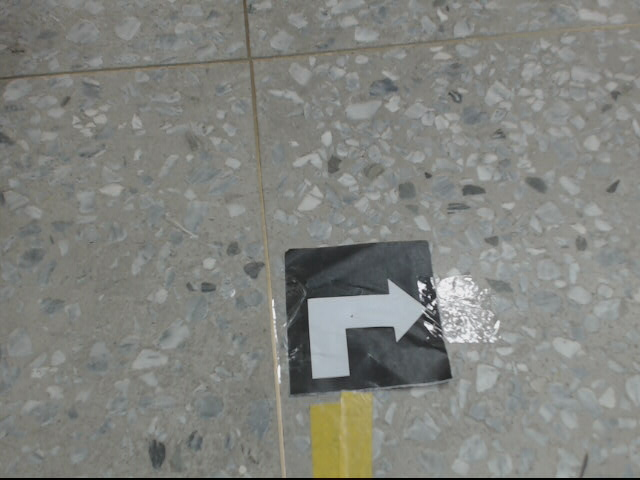right: (283, 237, 457, 396)
